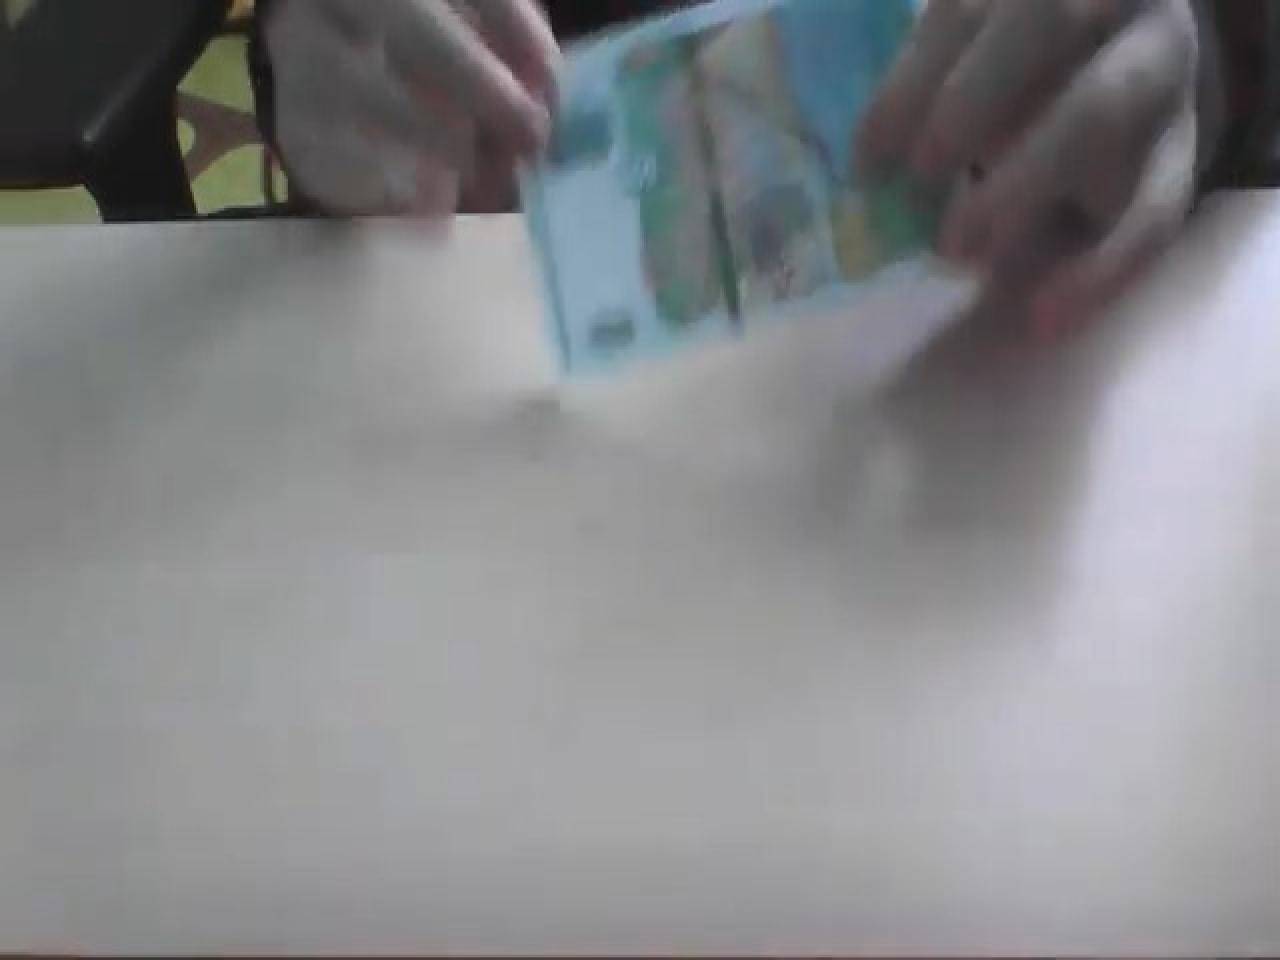100leva: (518, 0, 964, 379)
